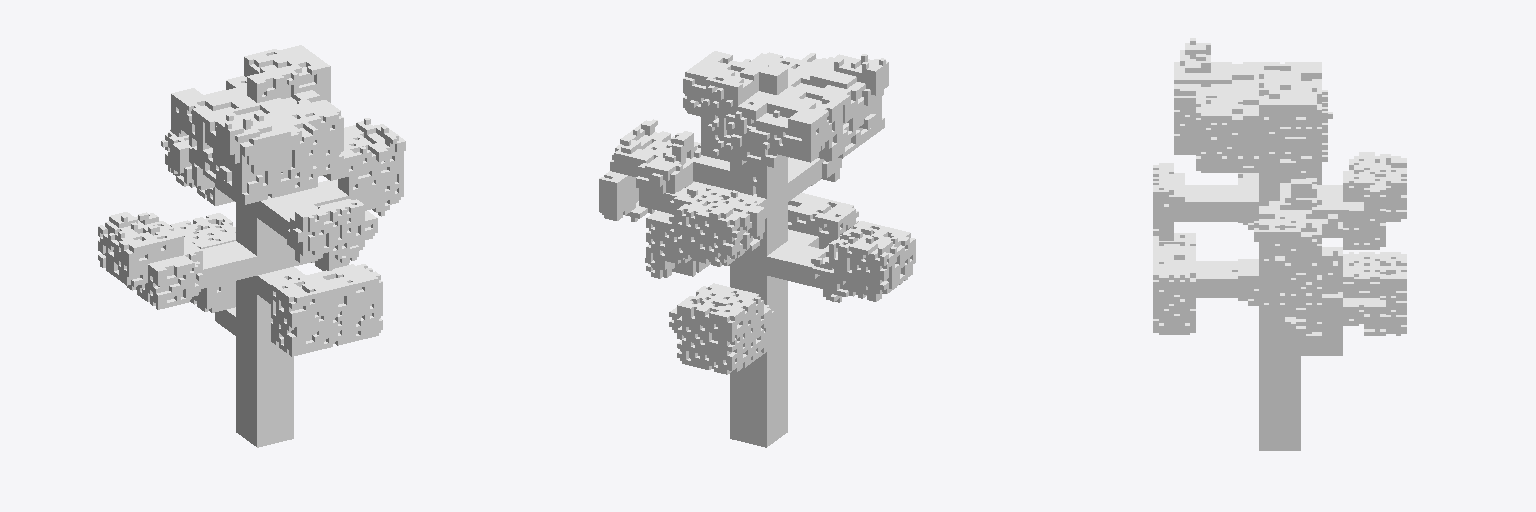
Rendered from Bonsai.obj.
3 renders of one model, left to right at view 1: azimuth 30°, elevation 25°; view 2: azimuth 150°, elevation 25°; view 3: azimuth 270°, elevation 25°, orthographic.
Size of the model in its own units: 60 by 76 by 48.